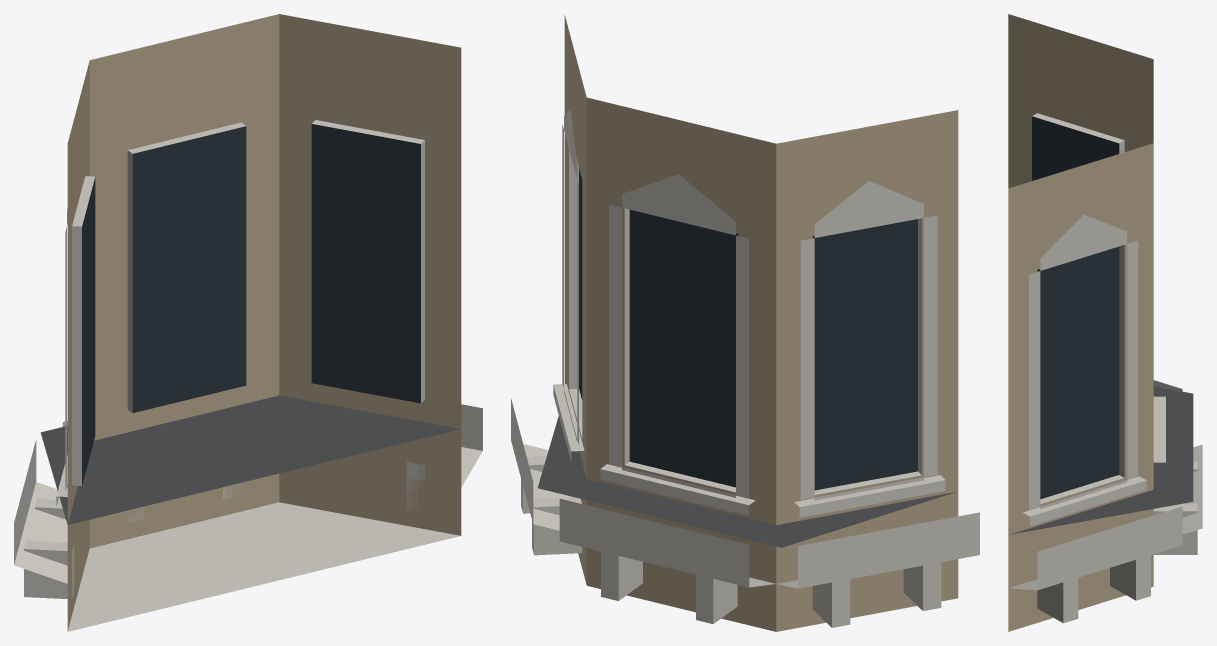
Rendered from bay-italianate.glb.
3 views of the same model, side by side, from view 1: azimuth 30°, elevation 25°; view 2: azimuth 150°, elevation 25°; view 3: azimuth 270°, elevation 25° (orthographic). The views are drawn at different scales.
Parts seen in each view (by area): view 1: storey, cap; view 2: storey, cap; view 3: storey, cap.
Boxes of the visible parts, x1,y1,x2,y2 form: storey: (56, 14, 461, 631); cap: (14, 395, 482, 630); storey: (553, 15, 958, 631); cap: (511, 398, 979, 631); storey: (1008, 14, 1165, 631); cap: (1008, 380, 1202, 631).
Bounding box in the file's own units: 3.22 × 3.2 × 1.27.
